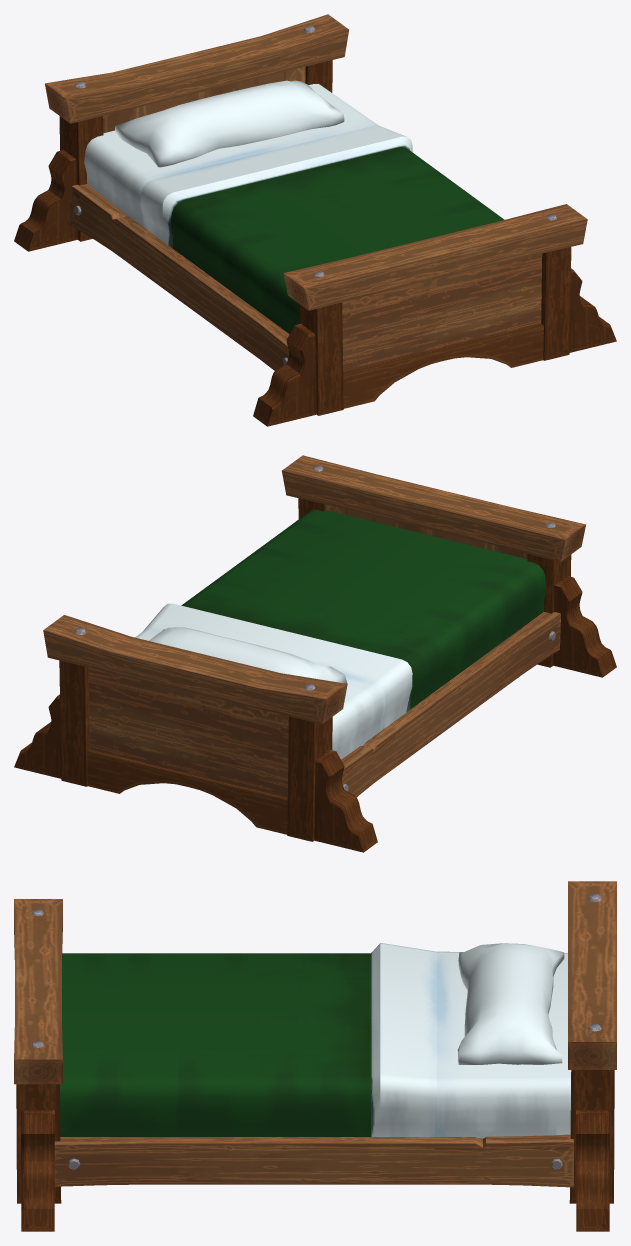
File: Bed_Twin2.gltf
The picture shows the model from 3 angles, top to bottom: view 1: azimuth 30°, elevation 25°; view 2: azimuth 150°, elevation 25°; view 3: azimuth 270°, elevation 25°; orthographic projection. The views are drawn at different scales.
Visible parts, largest first — view 1: Bed_Twin2; view 2: Bed_Twin2; view 3: Bed_Twin2.
Boxes of the visible parts, x1,y1,x2,y2 form: Bed_Twin2: (14,14,616,426); Bed_Twin2: (14,455,616,852); Bed_Twin2: (14,881,616,1231).
Size of the model in its own units: 1.88 by 0.7596 by 2.41.
Materials: 3 (3 with a texture image).
